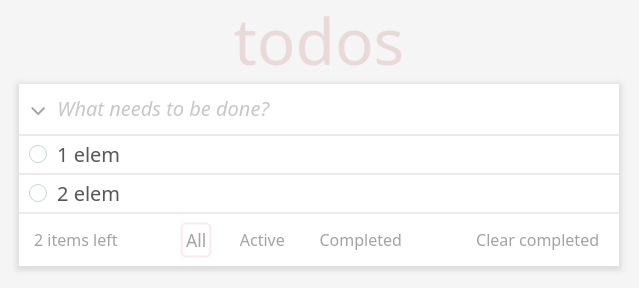
it: Tests › Set active todos to completed
The image size is (639, 288).
Expected: the number of elements with test id "todo-item" is 2, [19,136,619,174]; [19,174,619,214]
Click the checkbox with test id "todo-checkbox".
click(89, 154)  # box [57,140,120,168]
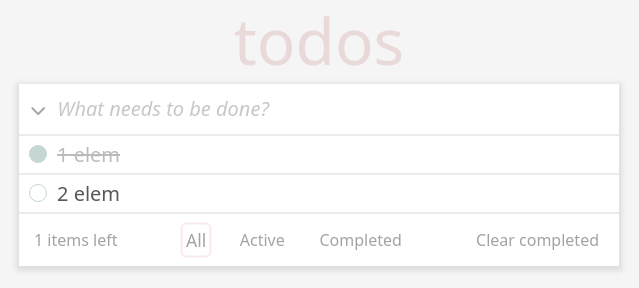
Click the checkbox with test id "todo-checkbox".
click(89, 193)  # box [57,180,120,206]
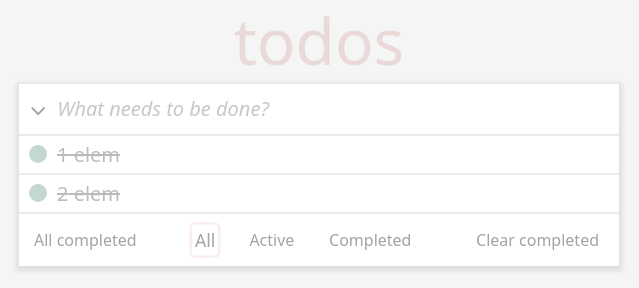
Click the text with test id "category-active".
click(272, 240)  # box [249,228,294,250]
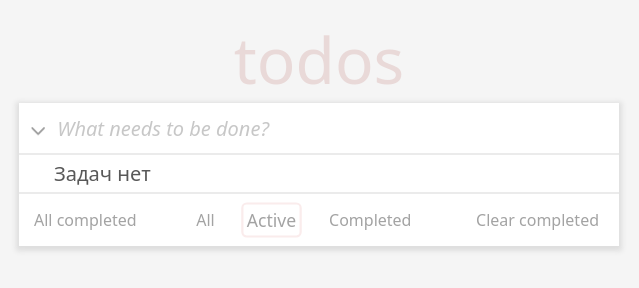
Expected: the element with test id "todo-item" is gone
Expected: the text "Задач нет" is shown, [19,155,619,194]
